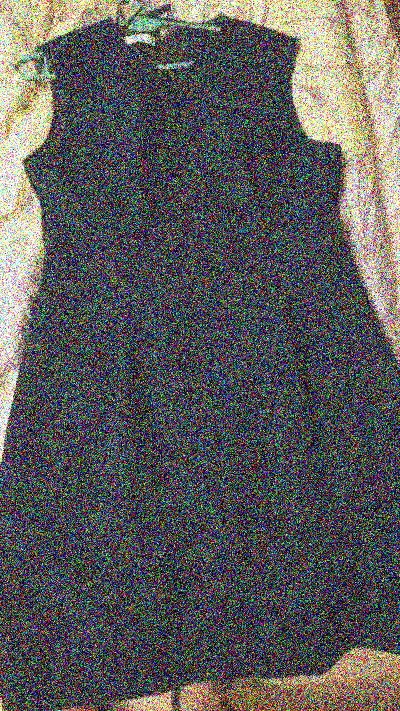Dress: (3, 10, 388, 708)
